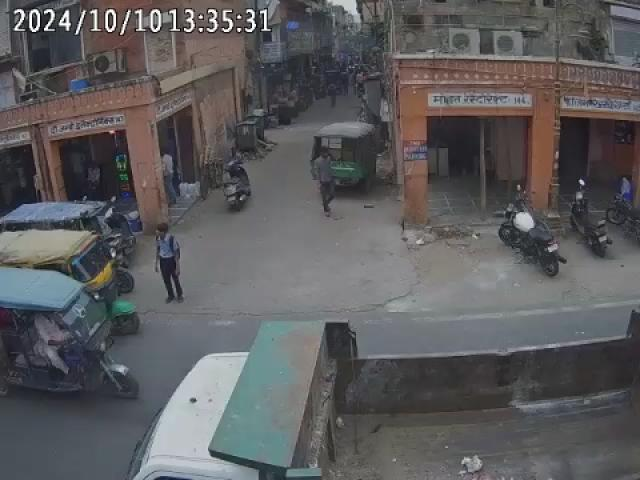auto: (0, 270, 130, 402)
motorbike: (499, 198, 565, 276)
motorbike-rider: (608, 190, 634, 226)
person: (154, 220, 182, 303), (312, 148, 338, 215), (326, 86, 339, 108)
scooty: (571, 178, 614, 257), (222, 147, 255, 209)
